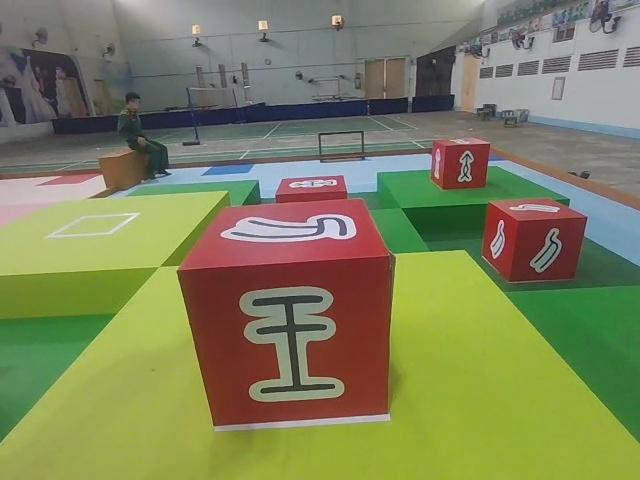R2 Fake: (173, 195, 394, 430)
R2 Real: (479, 195, 590, 284), (427, 134, 492, 192)
